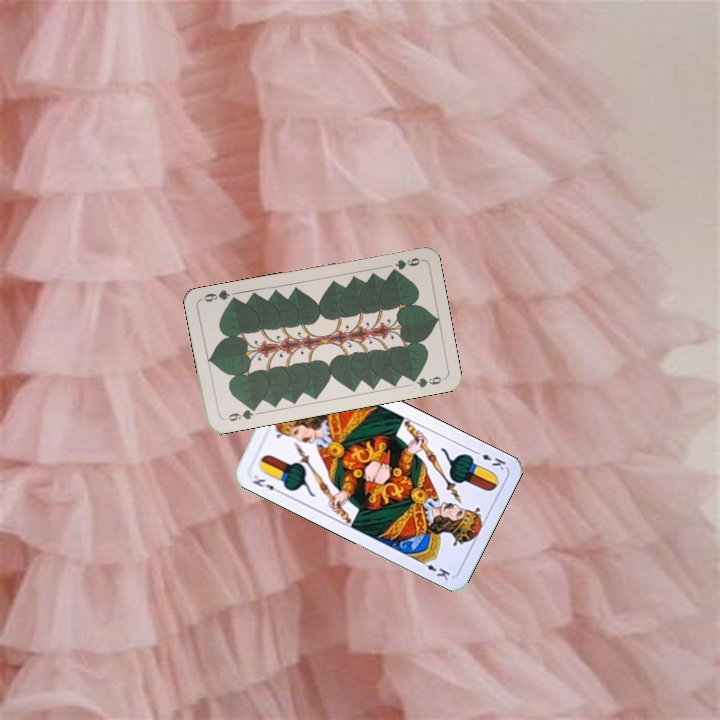EK: (469, 446, 509, 473), (248, 471, 285, 495)
G9: (387, 253, 424, 275), (224, 403, 259, 424)
